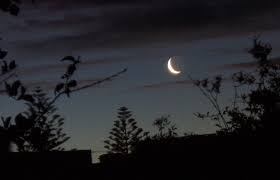moon: (167, 56, 183, 76)
